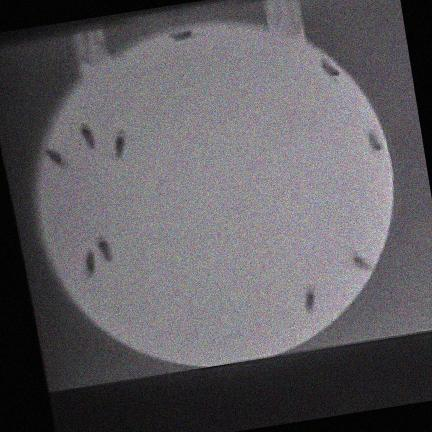fly: (96, 237, 112, 262), (45, 149, 66, 168), (80, 124, 95, 149), (320, 60, 339, 79), (114, 131, 125, 159), (352, 254, 370, 271), (84, 251, 95, 277), (169, 31, 196, 41), (367, 132, 381, 151), (304, 290, 314, 314)
